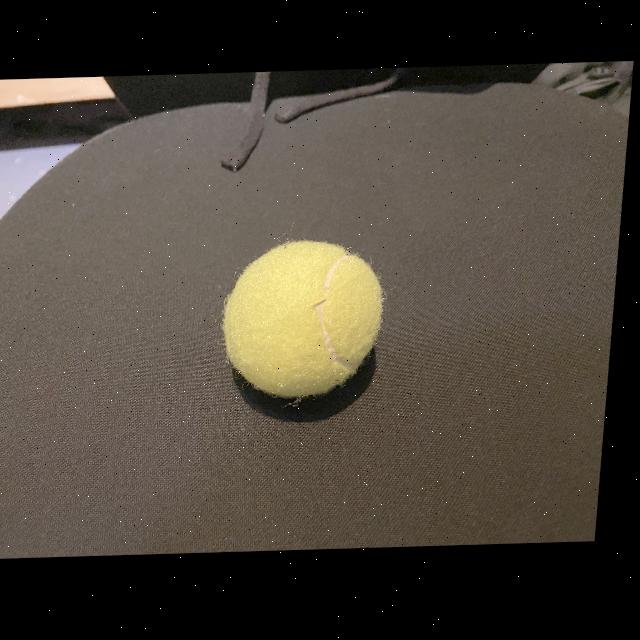Tennisball: (223, 240, 382, 397)
